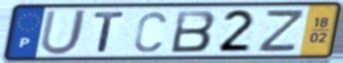2: (217, 8, 258, 54)
B: (169, 9, 218, 54)
C: (132, 10, 169, 54)
T: (92, 11, 128, 54)
U: (38, 8, 90, 57)
Z: (255, 8, 308, 54)
